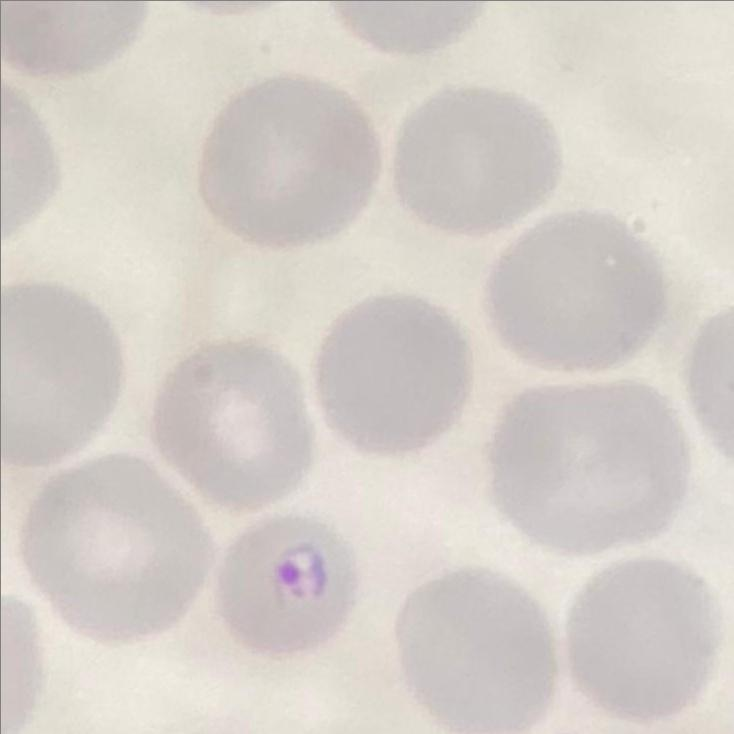Infected: (218, 509, 355, 655)
Uninfected: (18, 461, 214, 655), (490, 377, 683, 554), (198, 75, 386, 250), (148, 333, 321, 508), (486, 205, 661, 376), (314, 289, 481, 460), (392, 565, 558, 729), (556, 561, 721, 720), (394, 81, 562, 234), (0, 281, 122, 468)
